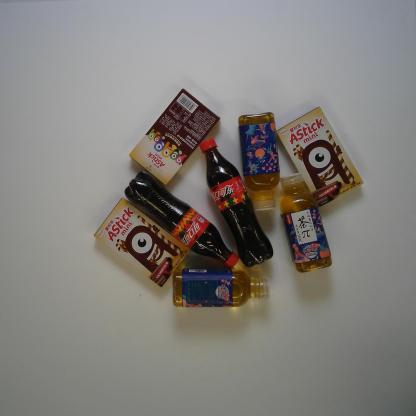Dessert: (128, 86, 222, 189), (275, 102, 364, 210), (90, 197, 188, 291)
Drink: (124, 170, 240, 268), (201, 134, 274, 268), (278, 172, 333, 274), (169, 263, 271, 310), (236, 110, 280, 212)
